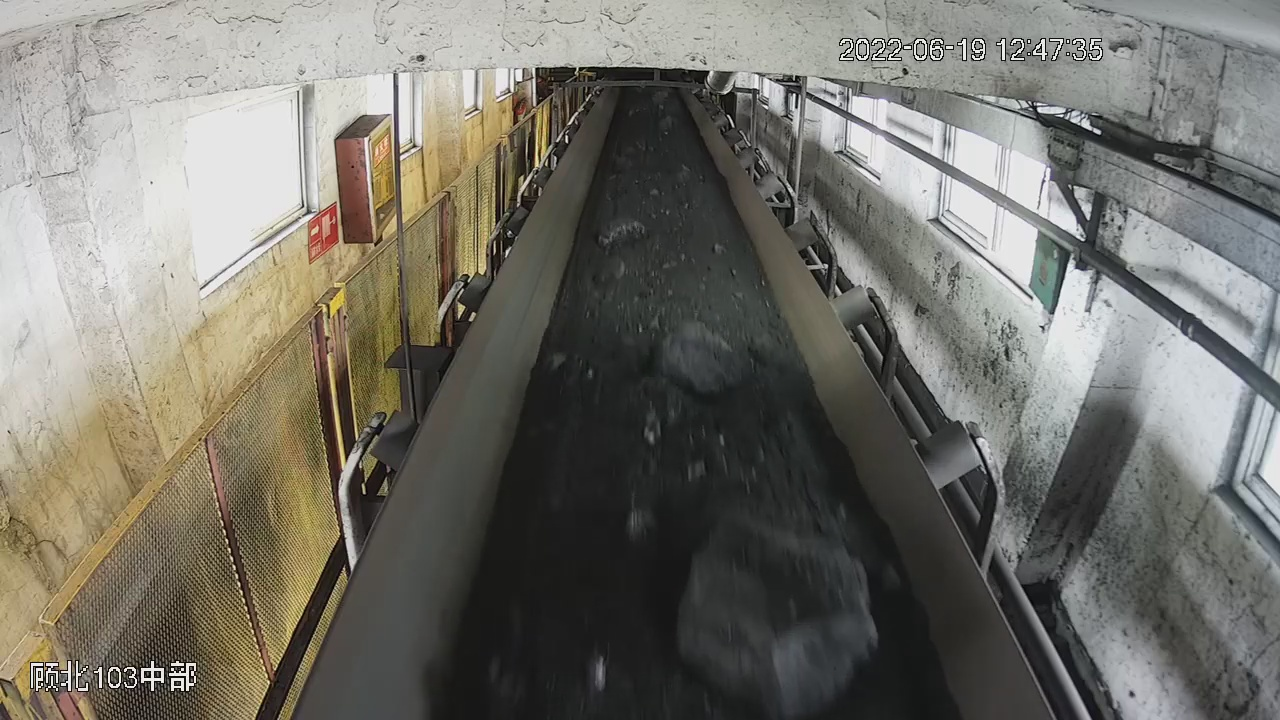gangue: (678, 506, 877, 720), (658, 323, 741, 392), (598, 217, 644, 243), (625, 495, 651, 541), (596, 255, 627, 284), (546, 350, 566, 368), (597, 655, 607, 689)
